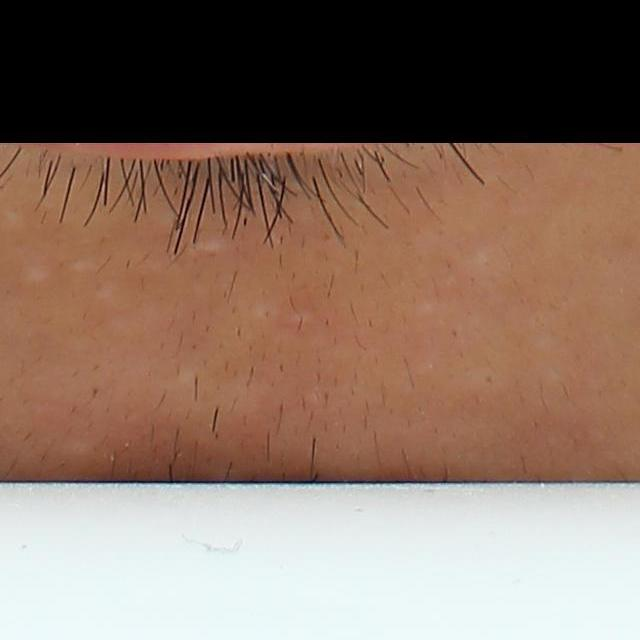hypertrophic_scar: (186, 231, 241, 257), (15, 261, 58, 290), (242, 298, 283, 323), (284, 308, 323, 330), (64, 257, 103, 276), (87, 282, 121, 302), (2, 207, 28, 226), (414, 303, 443, 319)
